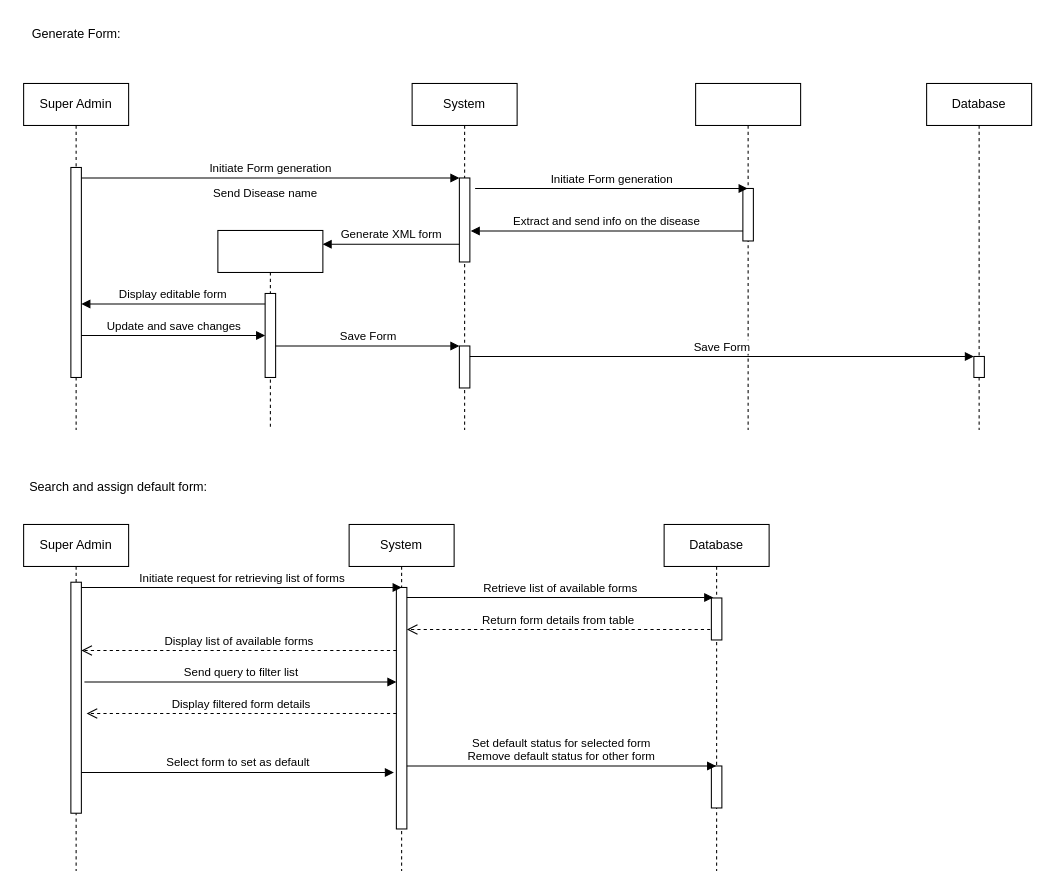
Image size: 1050x889. Some labels were removed from this diagram. Each missing label, with the centre of its shape:
Form: point (270, 329)
Web Scraper: point (748, 256)
